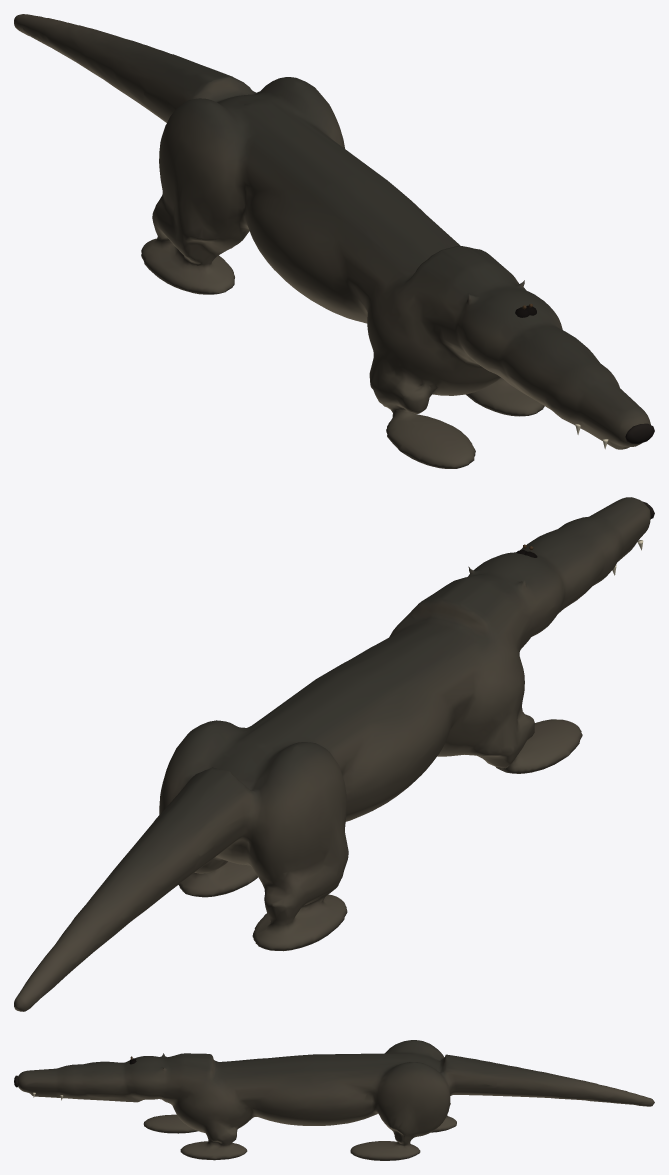
File: AmbulocetusNatans.fbx
3 views of the same model, one above another, from view 1: azimuth 30°, elevation 25°; view 2: azimuth 150°, elevation 25°; view 3: azimuth 270°, elevation 25° (orthographic). The views are drawn at different scales.
Parts seen in each view (by area): view 1: AmbulocetusNatans; view 2: AmbulocetusNatans; view 3: AmbulocetusNatans.
Boxes of the visible parts, bbox=[...] form: AmbulocetusNatans: bbox=[14, 14, 654, 468]; AmbulocetusNatans: bbox=[14, 497, 654, 1011]; AmbulocetusNatans: bbox=[14, 1040, 654, 1160].
Bounding box in the file's own units: 0.4443 × 0.432 × 2.75.
